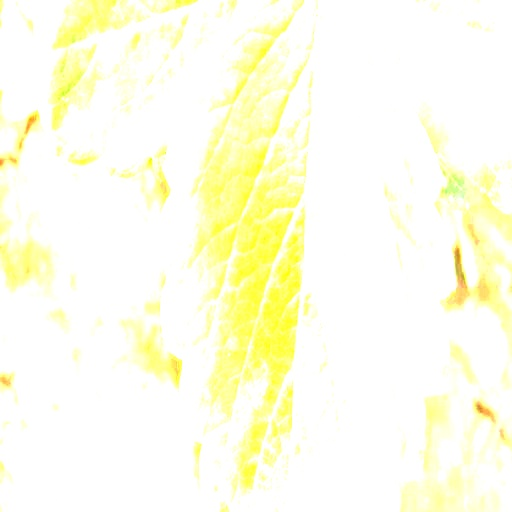Leaf Spot: (156, 0, 456, 511), (33, 0, 255, 185), (353, 0, 511, 214)
